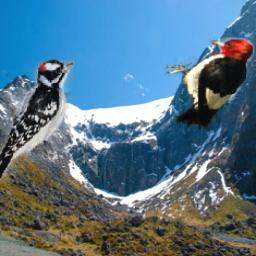Woodpecker: (0, 61, 74, 185), (166, 38, 256, 131)
